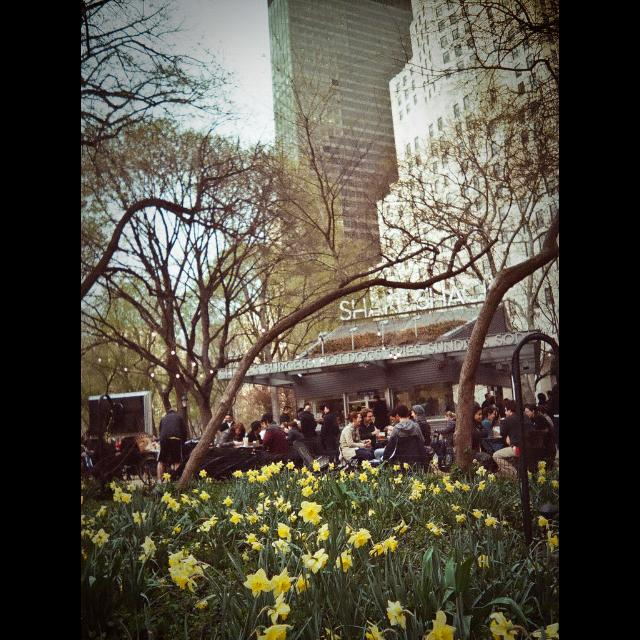Flower: (81, 458, 558, 640)
